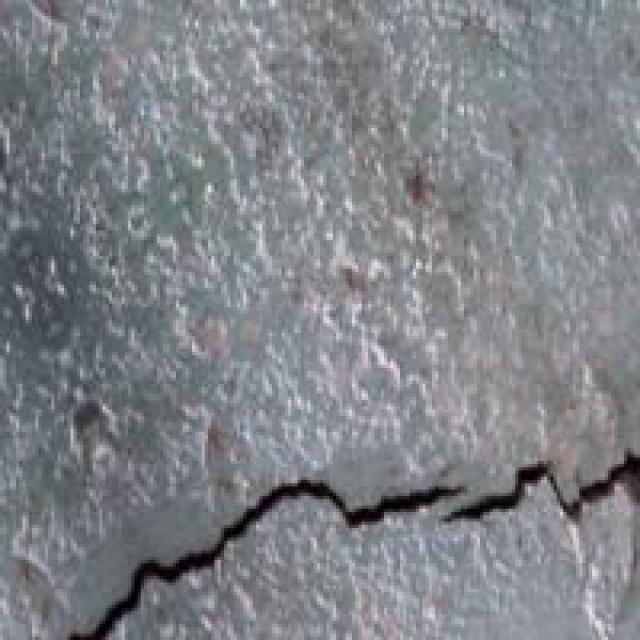Crack: (48, 381, 637, 637)
